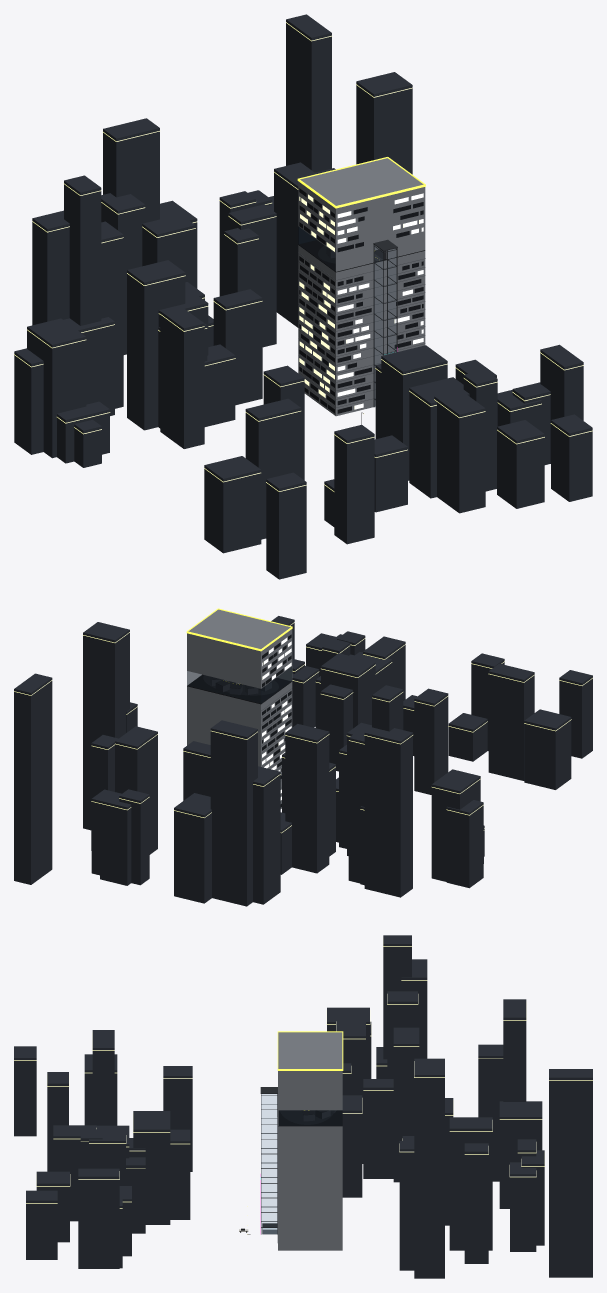
The model's file is tower.glb.
3 views of the same model, one above another, from view 1: azimuth 30°, elevation 25°; view 2: azimuth 150°, elevation 25°; view 3: azimuth 270°, elevation 25° (orthographic). The views are drawn at different scales.
Parts seen in each view (by area): view 1: skyline, tower, shaft, studio_floor; view 2: skyline, tower, studio_floor; view 3: skyline, tower, shaft, studio_floor.
Boxes of the visible parts, box(x1,y1,x2,y2) form: skyline: box(14, 14, 592, 579); tower: box(297, 157, 425, 416); shaft: box(373, 239, 397, 407); studio_floor: box(298, 240, 425, 272); skyline: box(14, 616, 592, 906); tower: box(186, 608, 292, 808); studio_floor: box(187, 674, 291, 704); skyline: box(14, 935, 592, 1278); tower: box(277, 1031, 343, 1250); shaft: box(260, 1087, 277, 1234); studio_floor: box(278, 1110, 342, 1126).
Size of what is drawn, in the model's own units: 209 by 111 by 286.
